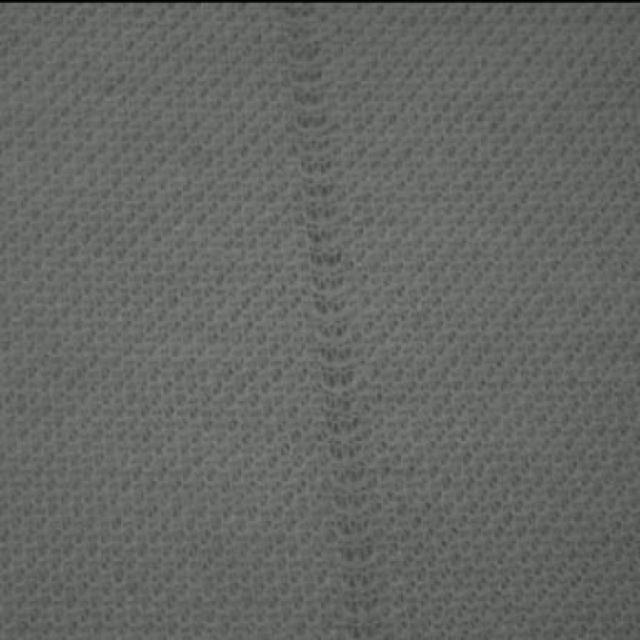Line: (282, 3, 383, 639)
